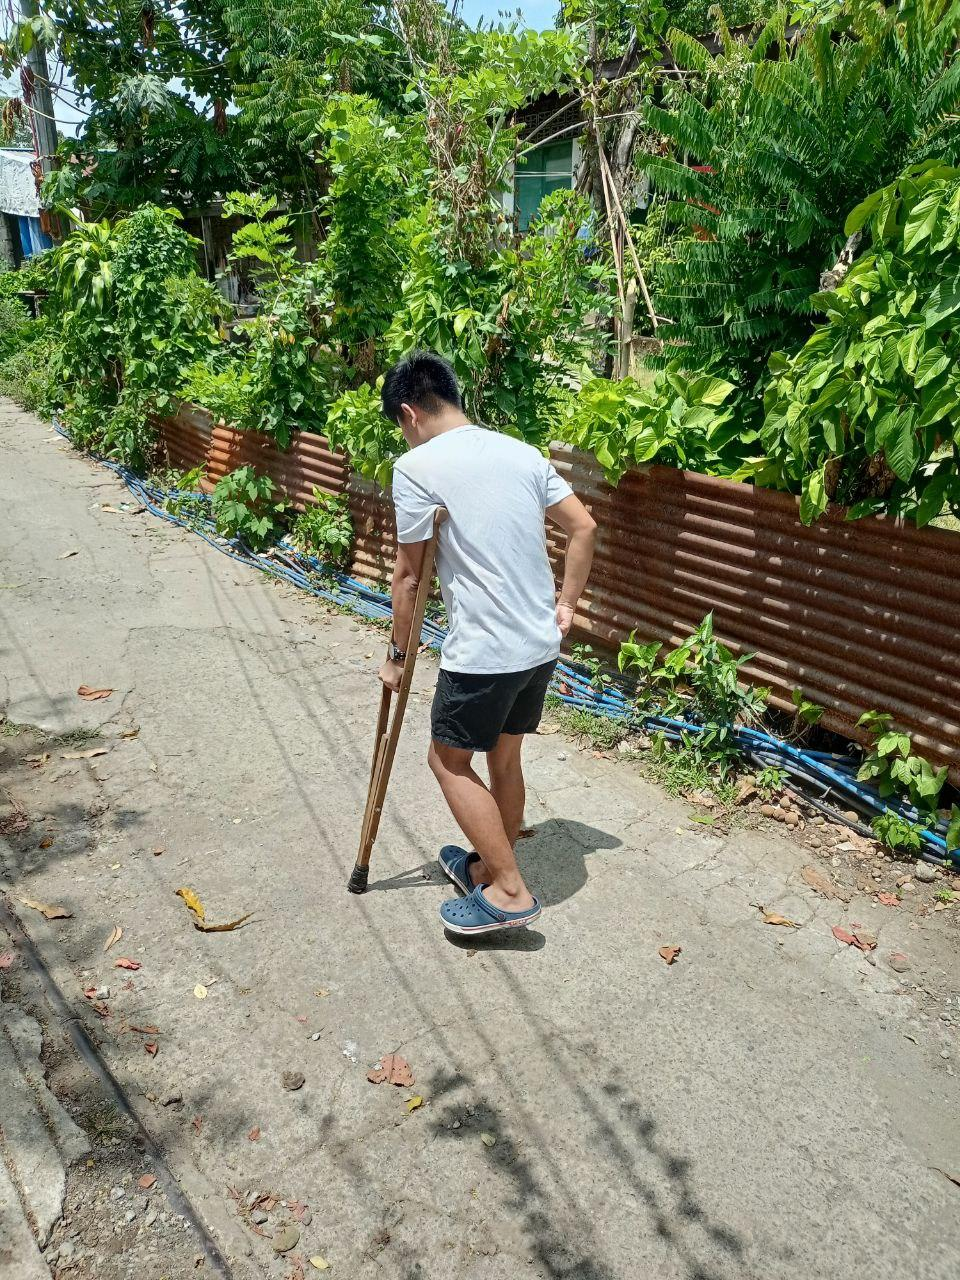crutches: (349, 355, 597, 940)
